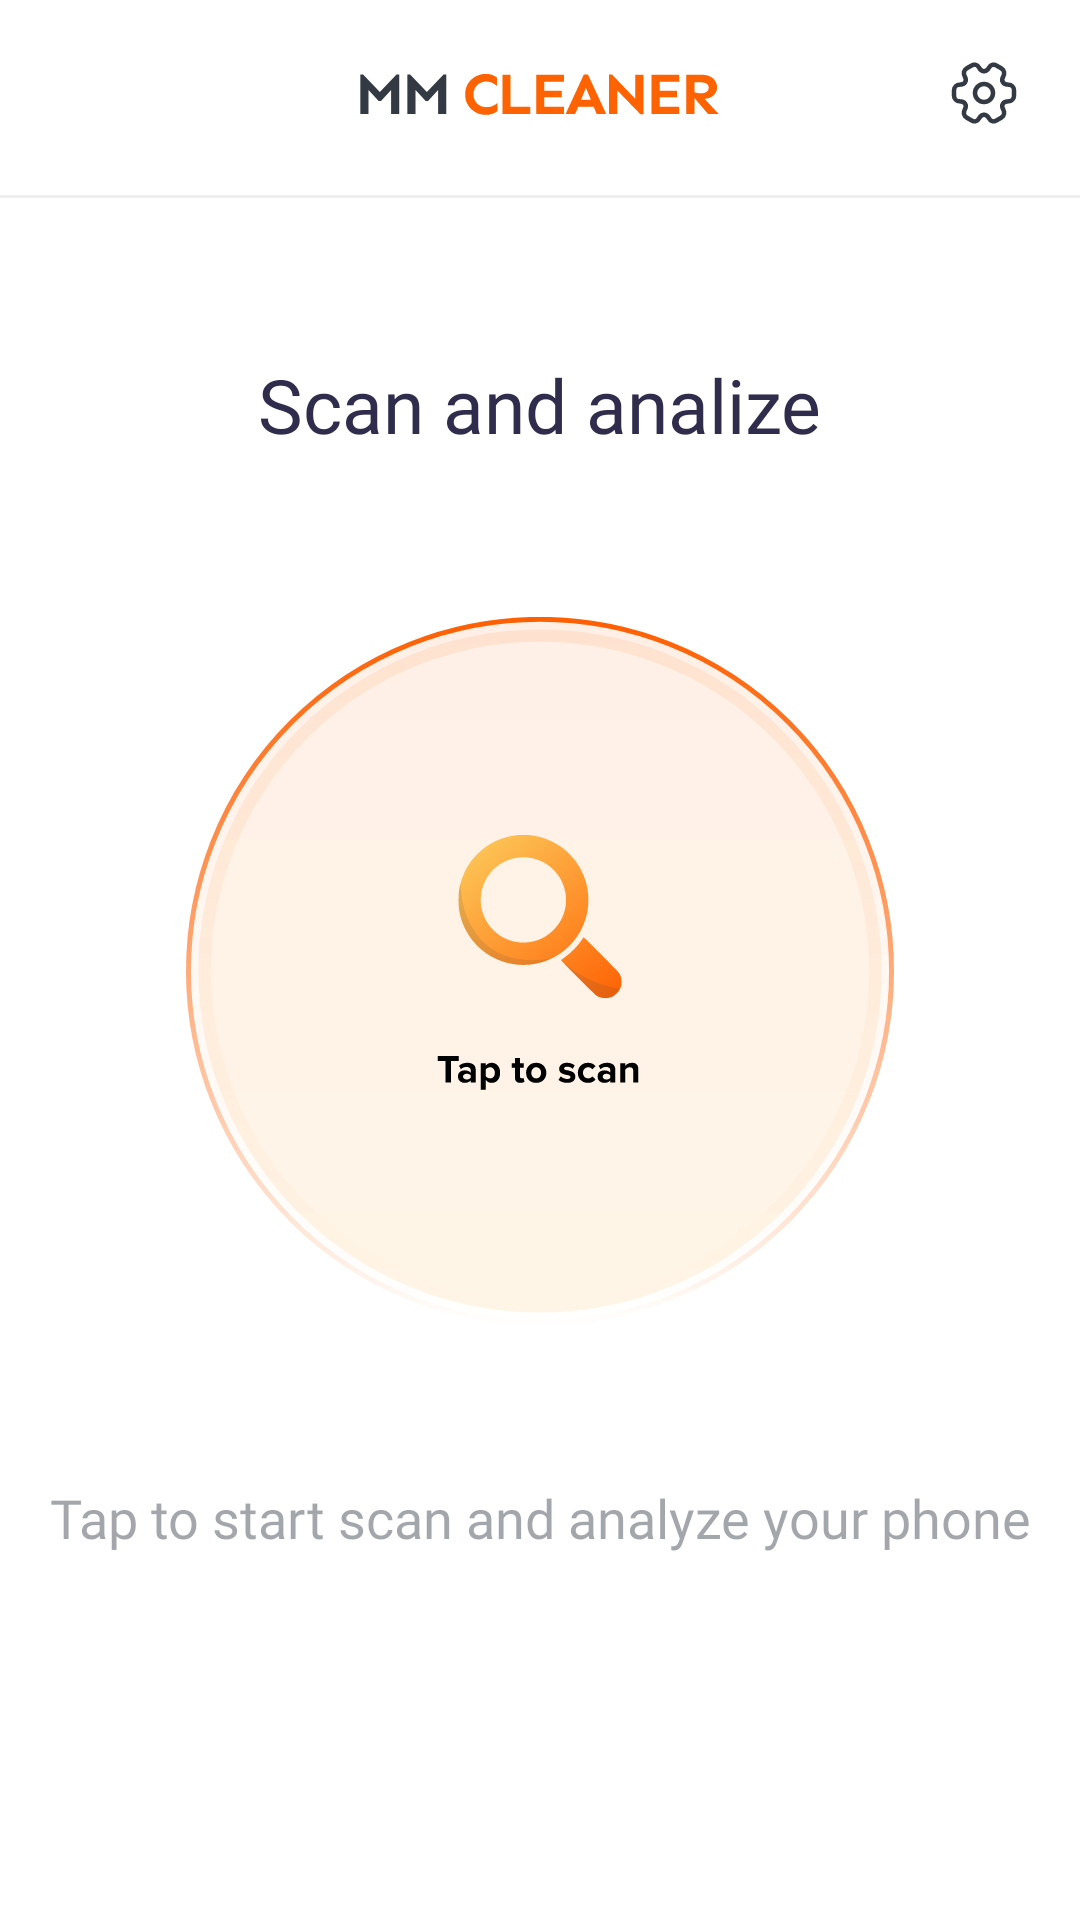

Named icons in this screenshot (1080x1920) and their bounding boxes, detection(x1, y1, x2, y2):
setting: detection(951, 62, 1017, 124)
